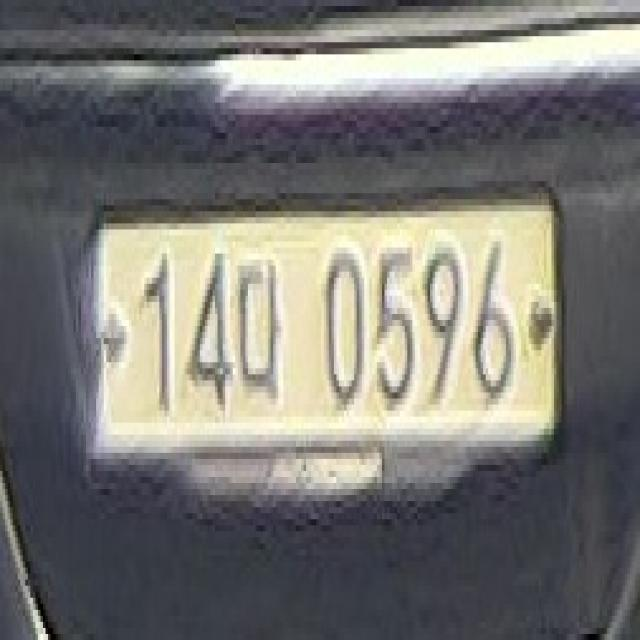0: (316, 236, 367, 417)
1: (139, 242, 187, 434)
4: (187, 242, 235, 428)
5: (372, 235, 417, 422)
6: (471, 230, 518, 422)
9: (415, 223, 465, 422)
da: (236, 236, 288, 417)
license_plate: (76, 169, 569, 519)
